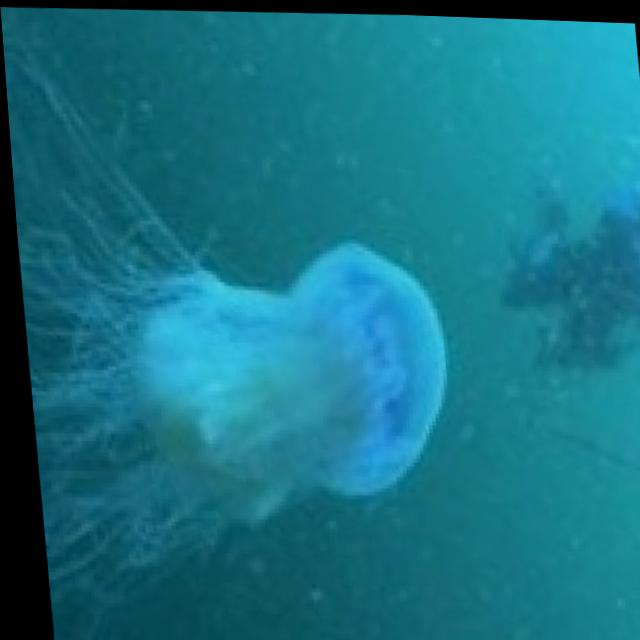Human: (113, 223, 459, 521)
